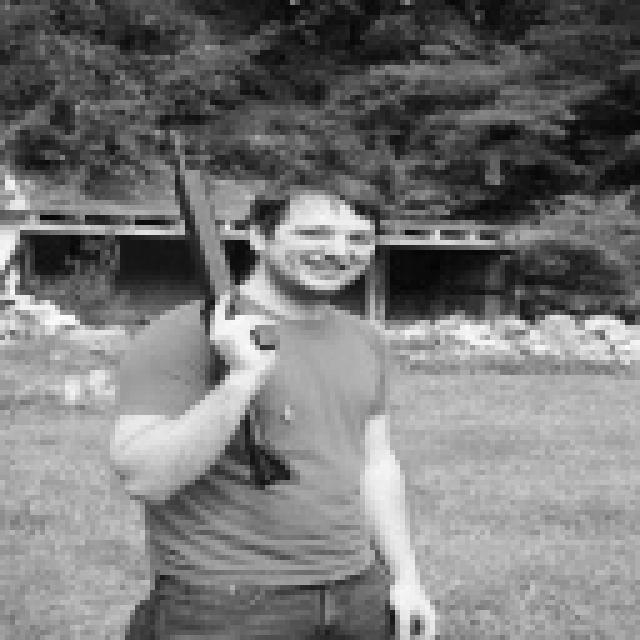Rifle: (145, 116, 279, 505)
